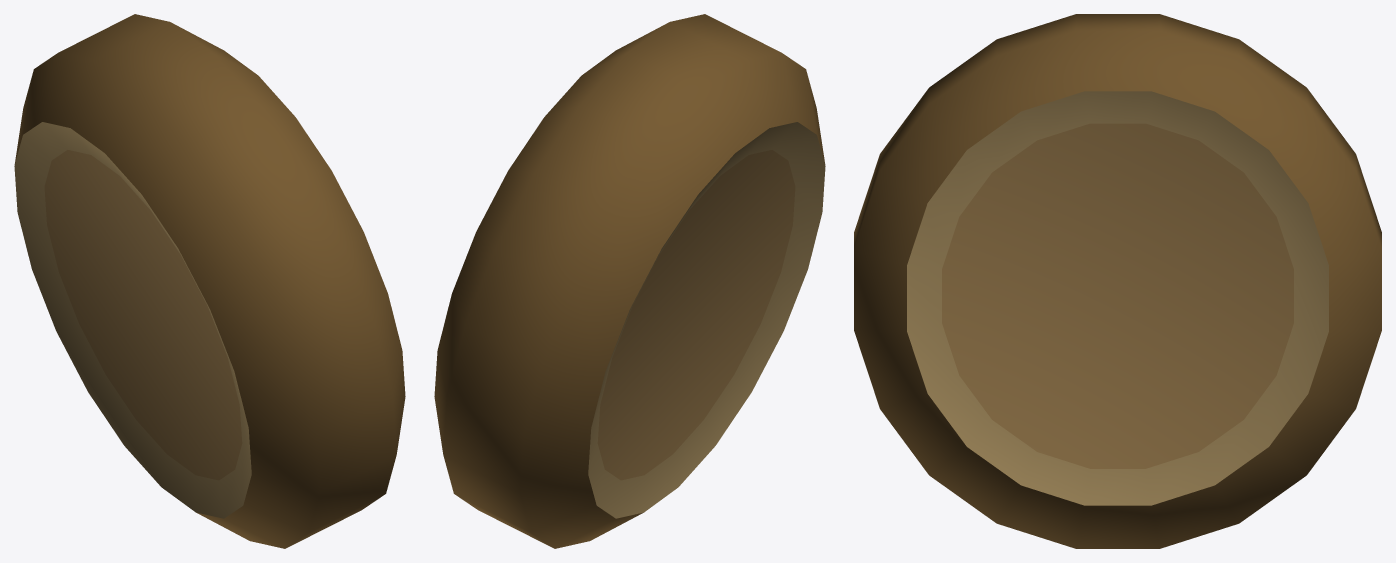
The model's file is tyrian10-7-f5.glb.
The picture shows the model from 3 angles, left to right: view 1: azimuth 30°, elevation 25°; view 2: azimuth 150°, elevation 25°; view 3: azimuth 270°, elevation 25°; orthographic projection. The views are drawn at different scales.
Visible parts, largest first — view 1: tyrian10-7-f5; view 2: tyrian10-7-f5; view 3: tyrian10-7-f5.
Part boxes in pixels (x1,y1,x2,y2): tyrian10-7-f5: (14,14,405,548); tyrian10-7-f5: (434,14,825,548); tyrian10-7-f5: (854,14,1381,548).
Bounding box in the file's own units: 0.3859 × 0.749 × 0.7408.
